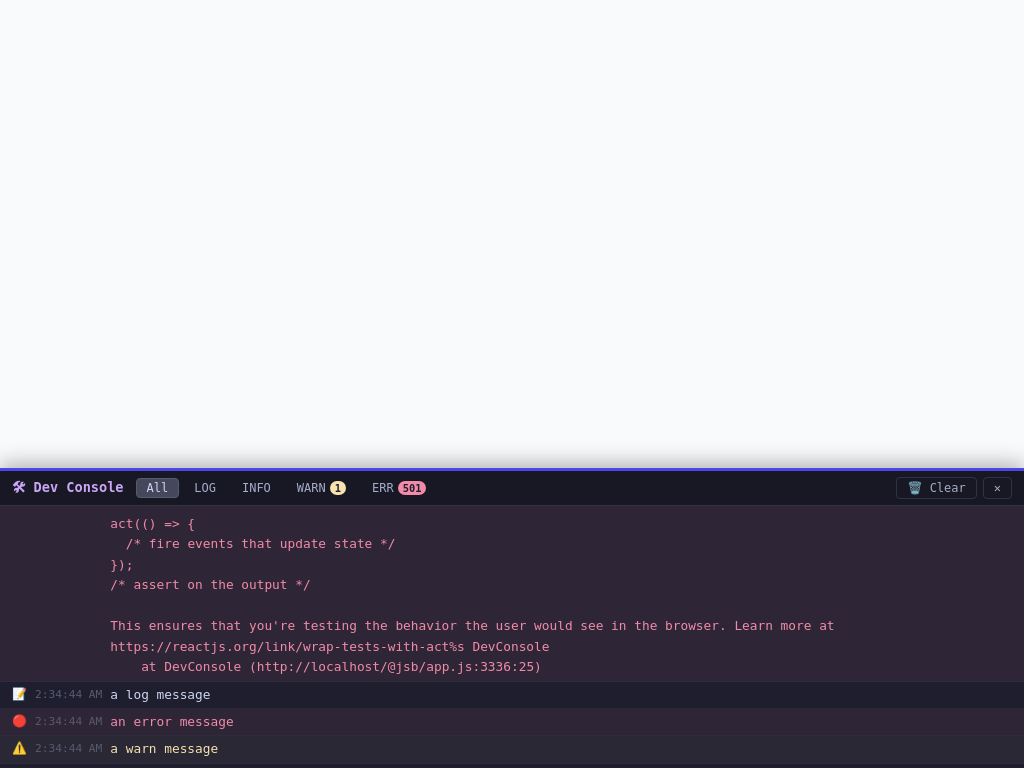
Test case: DevConsole › filters entries by level
(page scrolled)
Check: the text "a log message" is shown, box [110,686,210,702]
Check: the text "an error message" is shown, box [110,714,234,729]
// Filter to errors only
Click the button with aria-label "Filter error": (399, 488) [361,478,438,498]
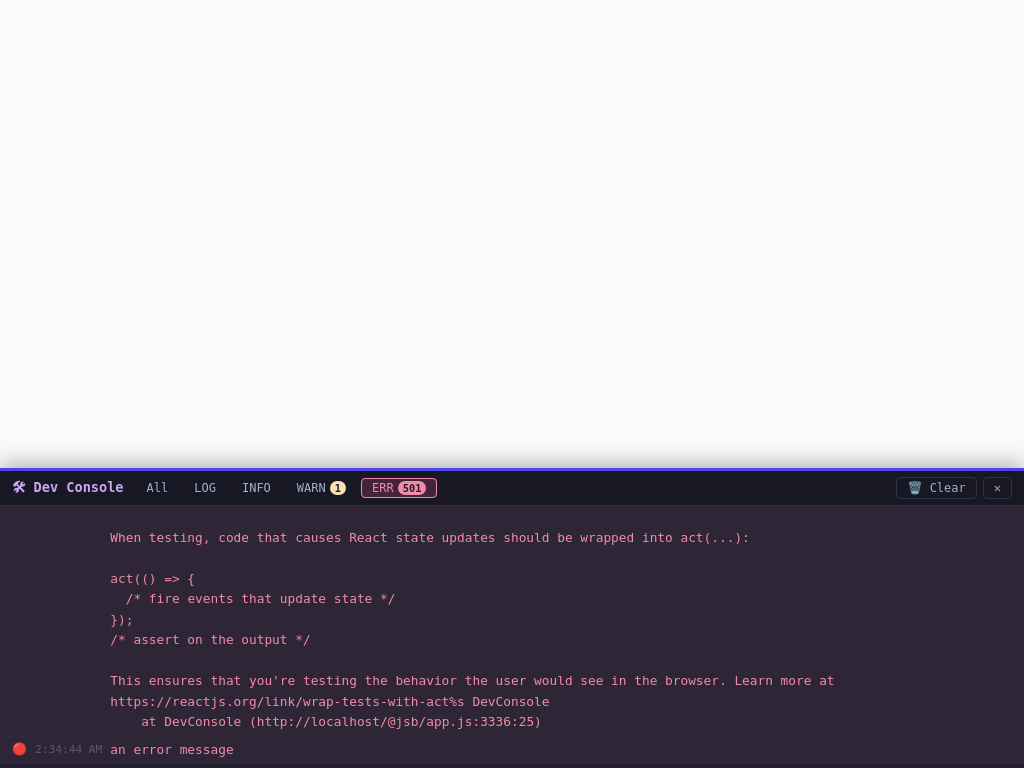
Check: the text "an error message" is shown, box [110,742,234,756]
Check: the text "a log message" is gone
Check: the text "a warn message" is gone
// Back to all
Click the button with aria-label "Filter all": (157, 488) [136,478,179,498]
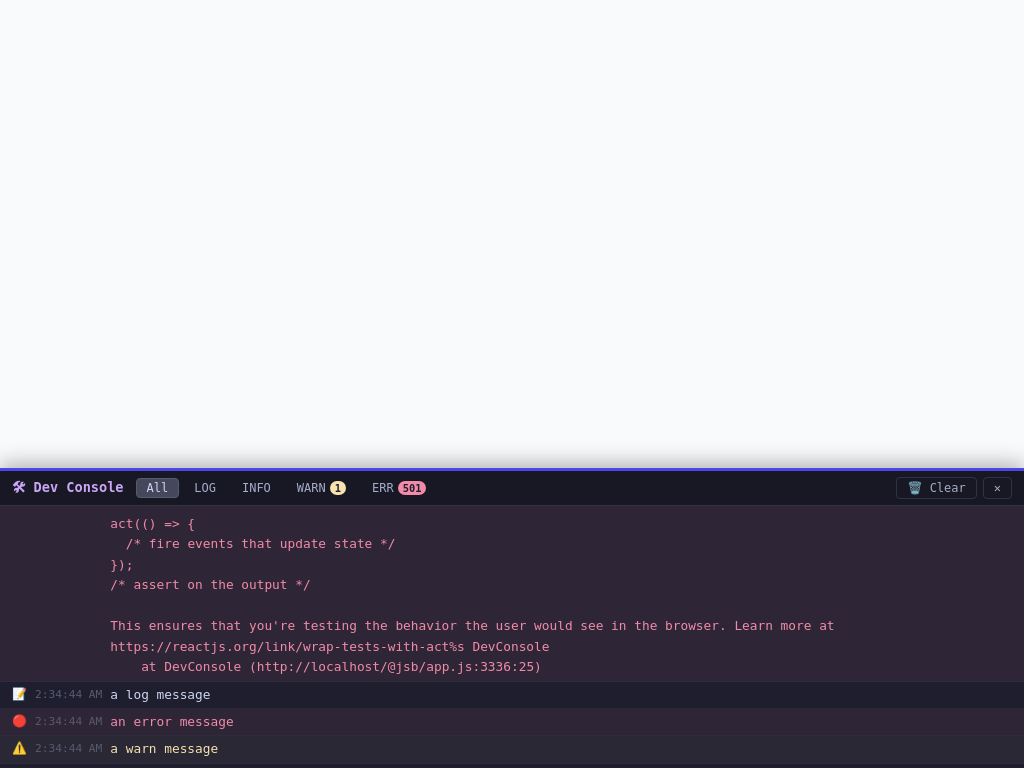
Check: the text "a log message" is shown, box [110,686,210,702]
